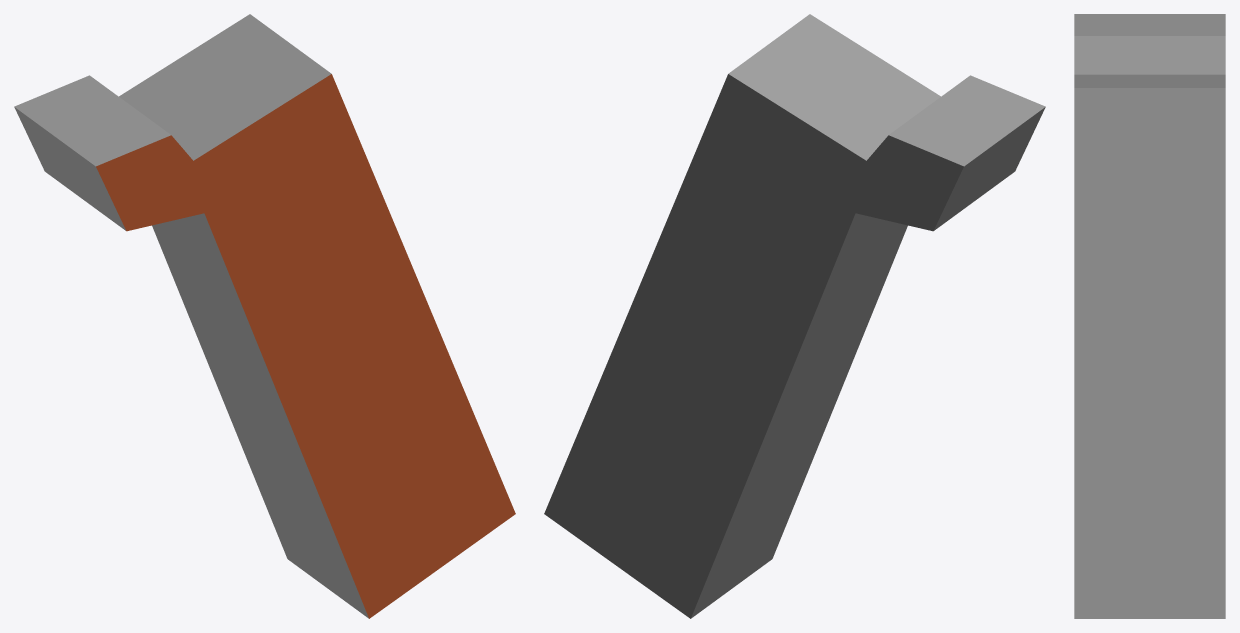
The model's file is construction_5468_assumed_A_Casa_h6m.obj.
3 views of the same model, side by side, from view 1: azimuth 30°, elevation 25°; view 2: azimuth 150°, elevation 25°; view 3: azimuth 270°, elevation 25° (orthographic). The views are drawn at different scales.
Parts seen in each view (by area): view 1: construction_5468_assumed_A_Casa; view 2: construction_5468_assumed_A_Casa; view 3: construction_5468_assumed_A_Casa.
Boxes of the visible parts, bbox=[...] form: construction_5468_assumed_A_Casa: bbox=[14, 14, 515, 618]; construction_5468_assumed_A_Casa: bbox=[544, 14, 1045, 618]; construction_5468_assumed_A_Casa: bbox=[1074, 14, 1225, 618].
Size of the model in its own units: 17.79 by 22.44 by 6.
